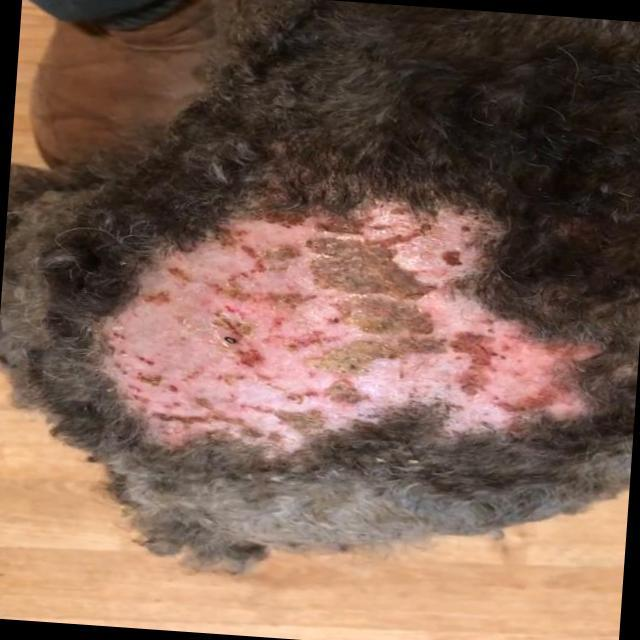allergic dermatitis: (96, 199, 576, 460)
